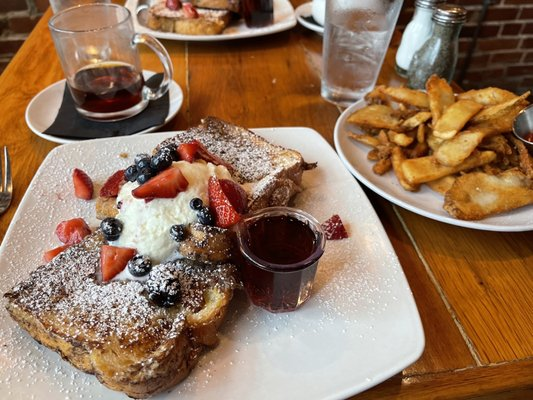burger: (0, 145, 13, 219)
pizza: (47, 1, 154, 121), (232, 206, 328, 313), (320, 0, 404, 102)
